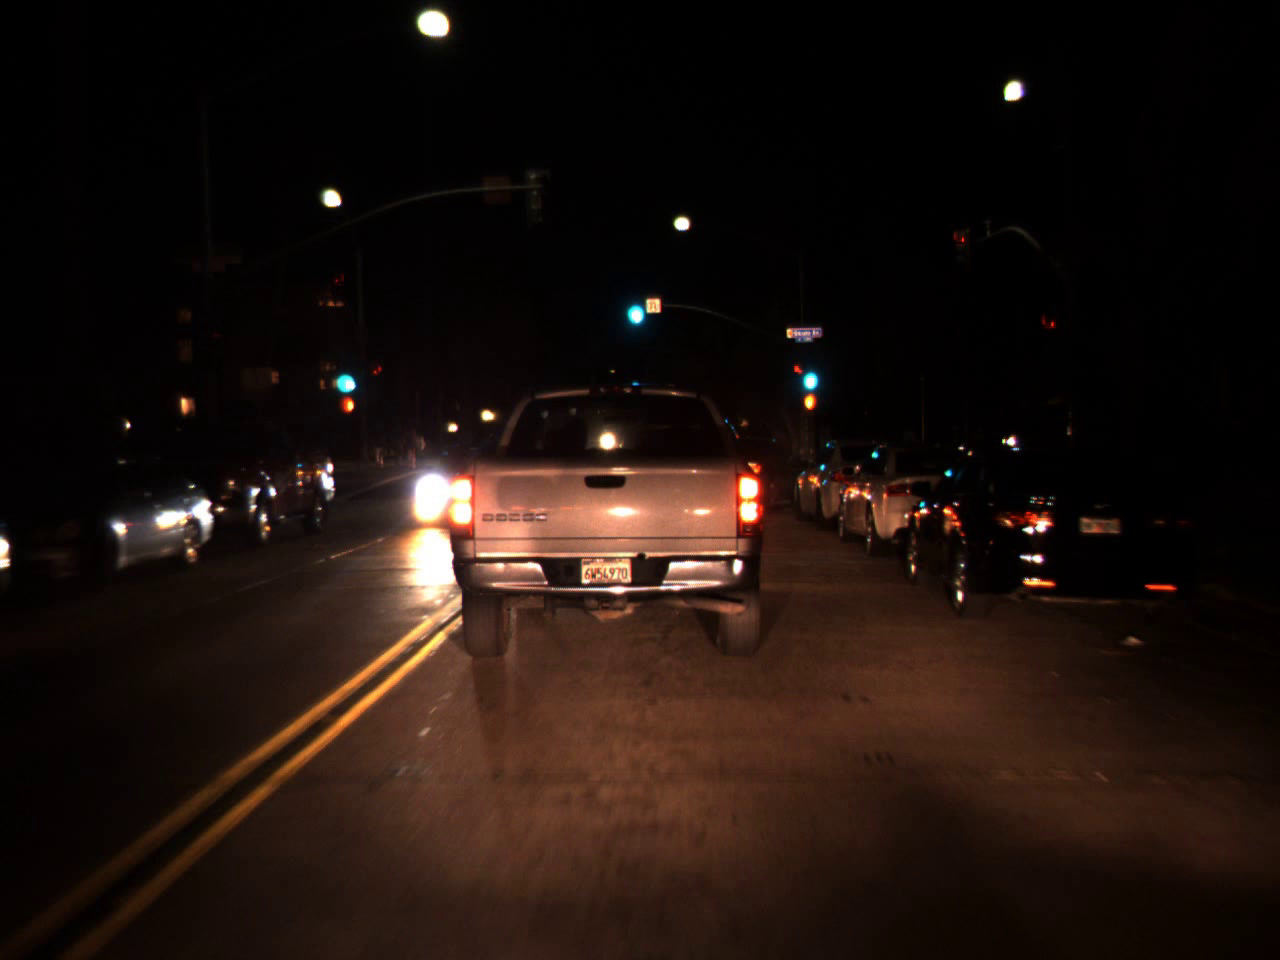go: (620, 280, 647, 331), (330, 352, 358, 400), (797, 351, 820, 396)
